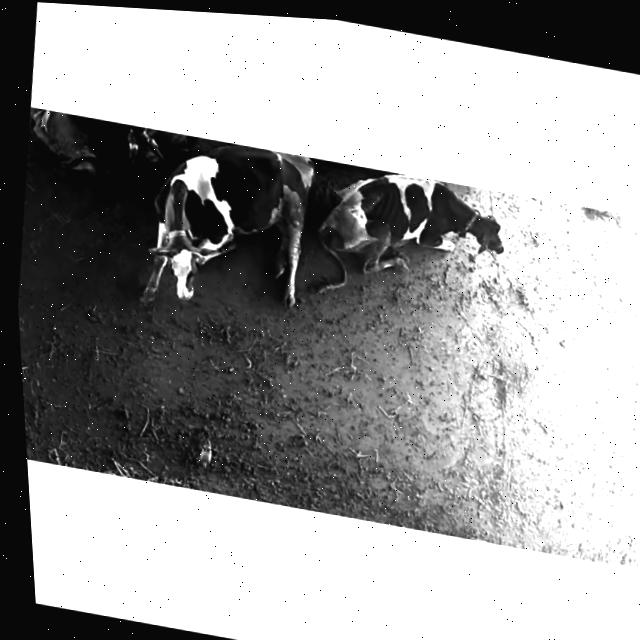lay: (125, 126, 330, 330), (309, 159, 526, 302), (24, 107, 197, 193)
